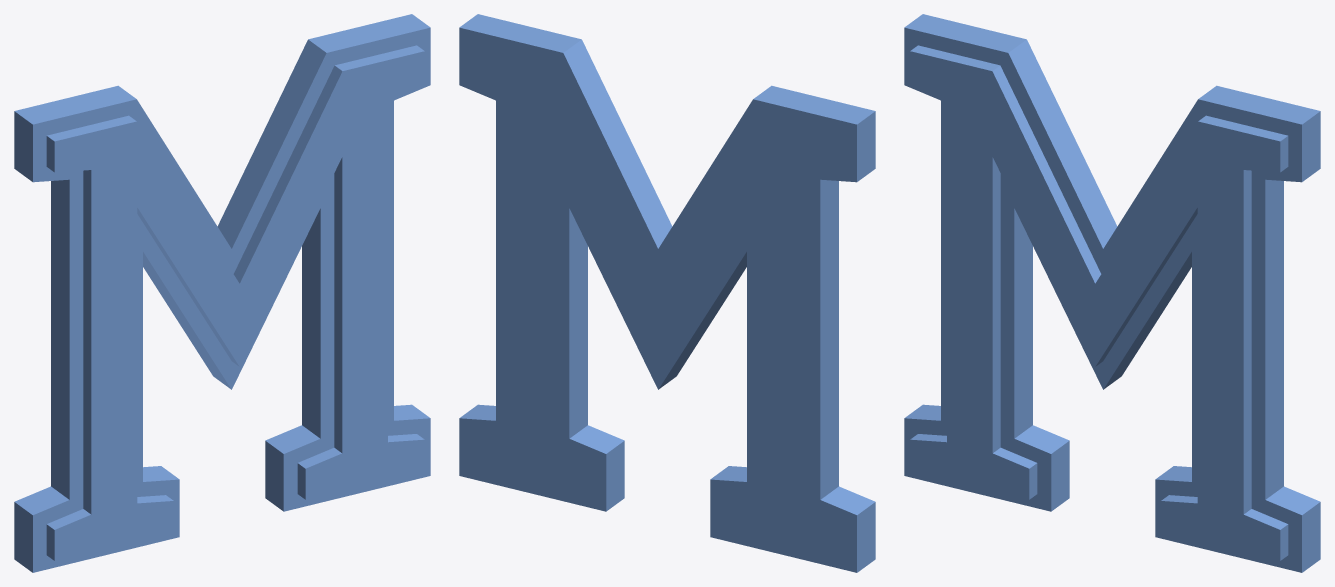
The model's file is uploads_files_2164709_M1.FBX.
3 renders of one model, left to right at view 1: azimuth 30°, elevation 25°; view 2: azimuth 150°, elevation 25°; view 3: azimuth 330°, elevation 25°, orthographic.
Parts seen in each view (by area): view 1: M; view 2: M; view 3: M.
Boxes of the visible parts, <box> form: M: <box>14,14,430,572</box>; M: <box>459,14,875,572</box>; M: <box>904,14,1320,572</box>.
Size of the model in its own units: 4.33 by 4.67 by 0.5.
